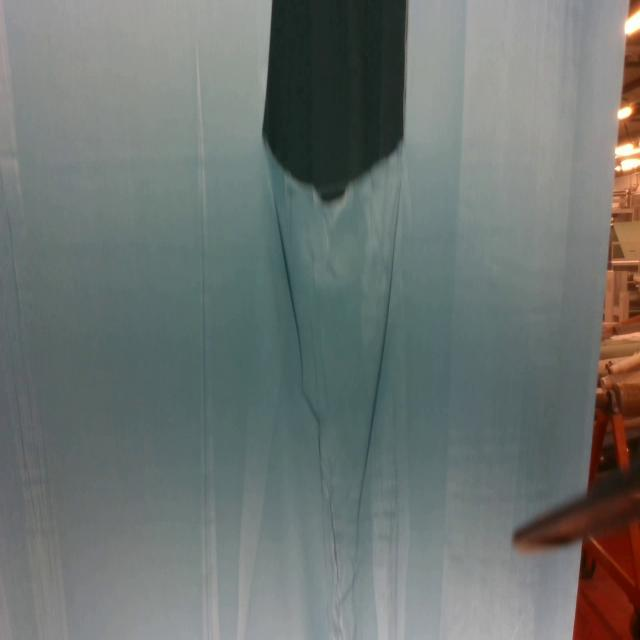crease: (1, 0, 67, 639), (357, 179, 404, 517), (194, 44, 220, 640), (272, 192, 305, 396), (317, 426, 326, 542), (328, 501, 341, 578)
hole: (259, 0, 409, 206)
